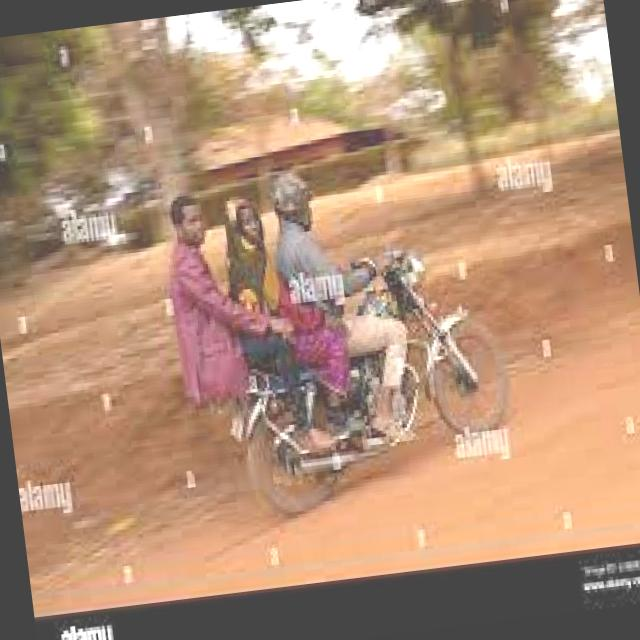motorcycle: (203, 245, 521, 505)
person: (257, 153, 372, 350), (156, 190, 245, 401), (213, 190, 299, 358)
